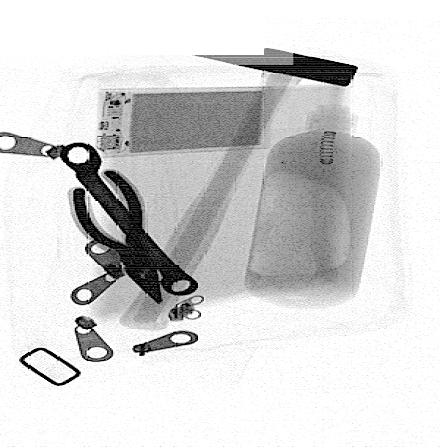Hammer: (117, 47, 359, 331)
Pliers: (70, 167, 164, 306)
Powerbank: (94, 86, 268, 158)
Wrench: (57, 140, 199, 297)
